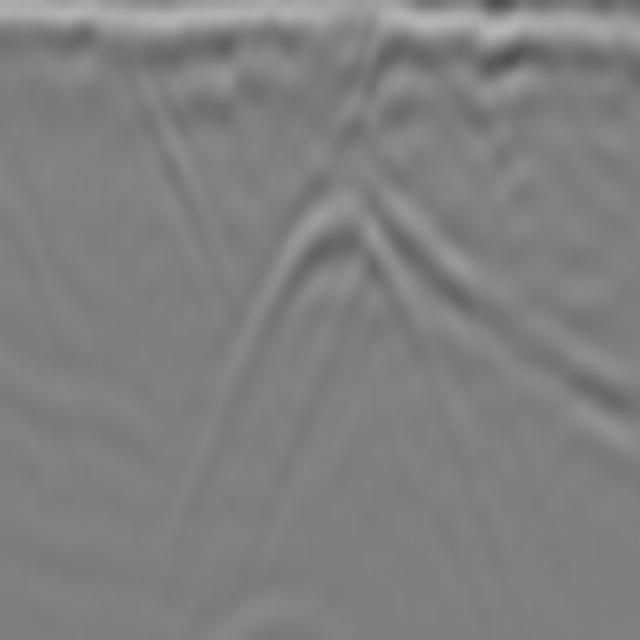hyperbola: (242, 183, 432, 416)
